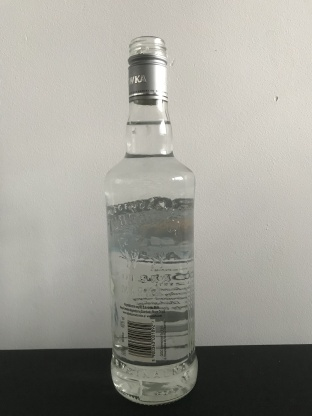nakretka: (126, 36, 169, 105)
